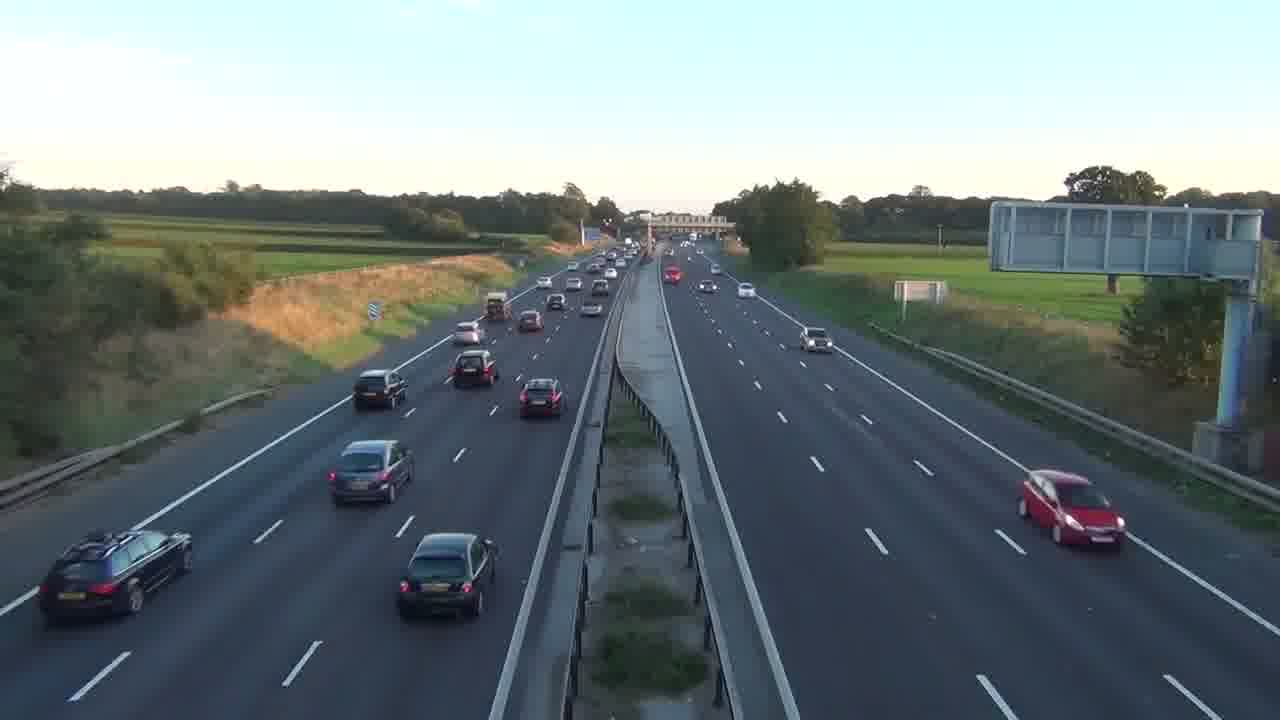car: (38, 526, 194, 626), (396, 530, 500, 619), (1017, 467, 1127, 550), (325, 438, 415, 505), (352, 368, 407, 411), (518, 377, 565, 420), (448, 349, 498, 388), (697, 280, 718, 293)
